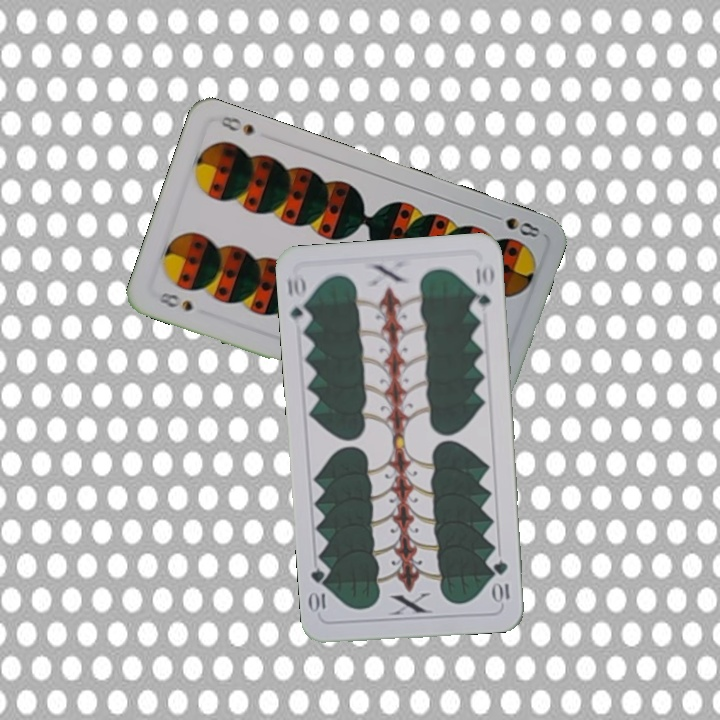G10: (283, 270, 313, 330), (490, 556, 512, 605)
S8: (486, 209, 543, 240), (154, 288, 196, 314)
